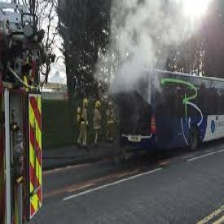smoke: (108, 2, 169, 84)
